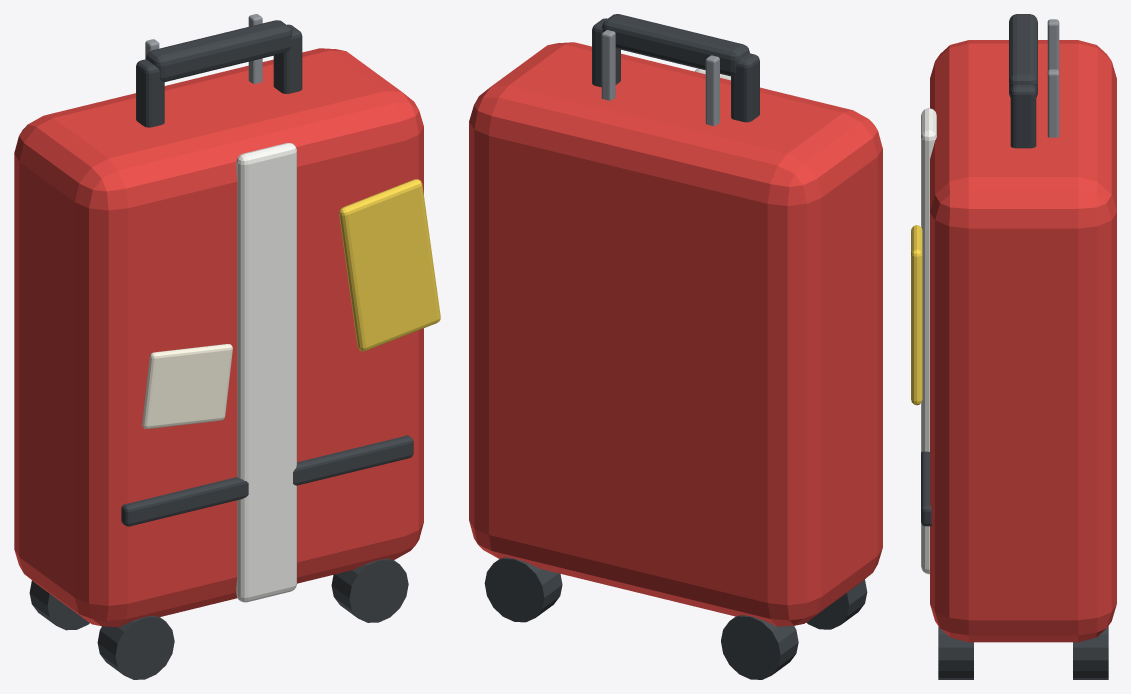
Rendered from player-red.glb.
3 views of the same model, side by side, from view 1: azimuth 30°, elevation 25°; view 2: azimuth 150°, elevation 25°; view 3: azimuth 270°, elevation 25° (orthographic).
Parts seen in each view (by area): view 1: Shell, Strap, Tag, Sticker, LowerBand, HandleTop, Wheel, Wheel.002, HandlePost, HandlePost.001, Wheel.001; view 2: Shell, HandleTop, Wheel.001, Wheel.003, HandlePost, Wheel, Rail.001, Rail, HandlePost.001; view 3: Shell, Strap, Tag, HandleTop, HandlePost.001, Wheel.003, Wheel.002, Rail.001, LowerBand, Rail.
Part boxes in pixels (x1,y1,x2,y2): Shell: (14,48,423,627); Strap: (236,143,296,602); Tag: (339,179,440,351); Sticker: (142,344,232,428); LowerBand: (121,435,413,526); HandleTop: (146,20,292,82); Wheel: (97,615,174,679); Wheel.002: (331,558,408,622); HandlePost: (136,59,164,127); HandlePost.001: (273,24,302,93); Wheel.001: (29,580,89,630); Shell: (469,42,882,626); HandleTop: (602,14,749,76); Wheel.001: (721,615,798,679); Wheel.003: (484,557,562,622); HandlePost: (731,53,759,122); Wheel: (806,579,867,629); Rail.001: (601,30,615,100); Rail: (705,55,719,125); HandlePost.001: (592,18,620,87); Shell: (930,40,1116,642); Strap: (921,108,936,574); Tag: (911,225,922,405); HandleTop: (1009,14,1037,97); HandlePost.001: (1010,85,1036,148); Wheel.003: (1073,626,1108,679); Wheel.002: (938,626,973,679); Rail.001: (1047,69,1059,137); LowerBand: (921,451,931,526); Rail: (1047,19,1059,71).
Bounding box in the file's own units: 1.22 × 1.97 × 0.6386.
